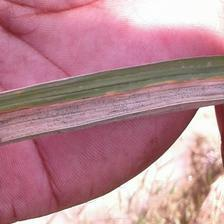2 BacterialBlight: (4, 83, 217, 129)
